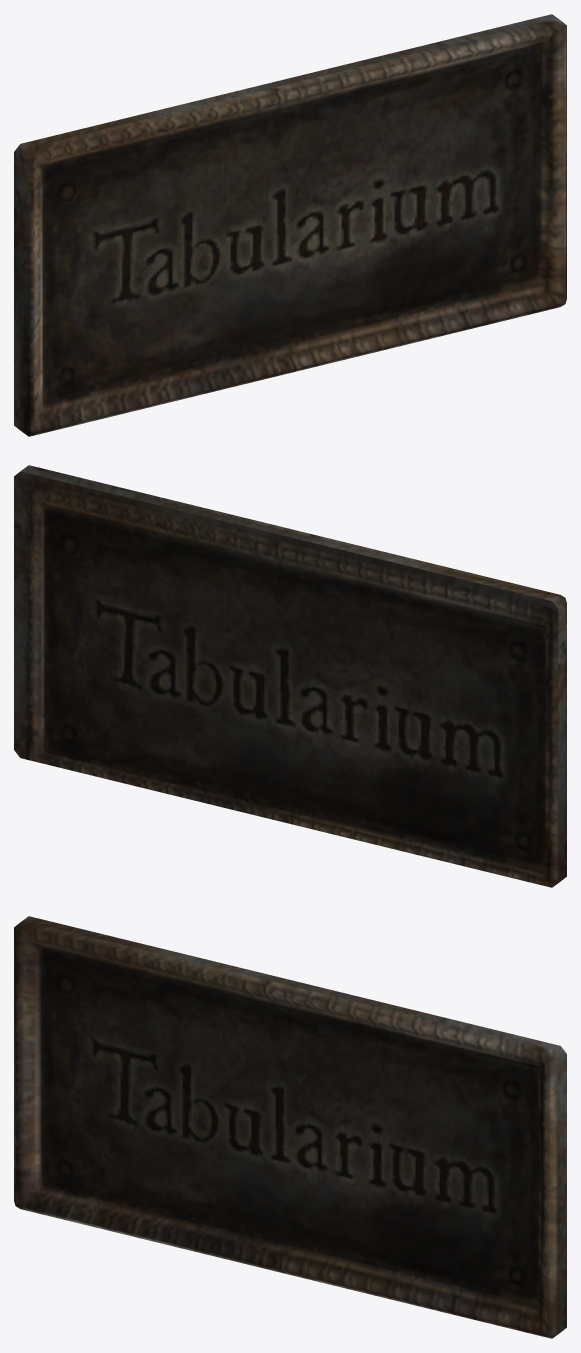
Rendered from sign_archives.dae.
3 views of the same model, one above another, from view 1: azimuth 30°, elevation 25°; view 2: azimuth 150°, elevation 25°; view 3: azimuth 330°, elevation 25° (orthographic).
Parts seen in each view (by area): view 1: Box02; view 2: Box02; view 3: Box02.
Part boxes in pixels (left/top/right/bottom): Box02: left=14, top=14, right=566, bottom=436; Box02: left=14, top=465, right=566, bottom=887; Box02: left=14, top=916, right=566, bottom=1338.
Size of the model in its own units: 0.6037 by 0.0235 by 0.3038.
